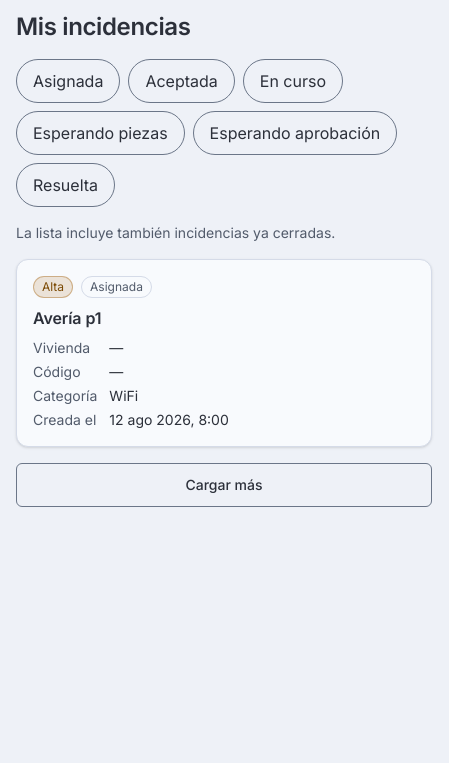
Test case: TechIncidentsView (R1) › retries only the failed page and restores `load more` (R1.6)
Expected: the text "Avería p1" is shown, [33,308,102,328]
Click the button "Cargar más" at (224, 485), box [16,463,432,507]
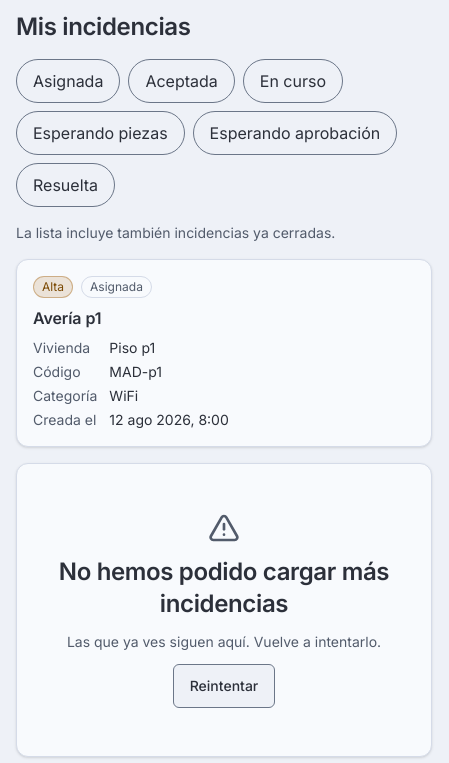
Expected: the heading "No hemos podido cargar más incidencias" is shown, [41,556,407,620]
Click the button "Reintentar" at (224, 686), box [173,664,275,708]
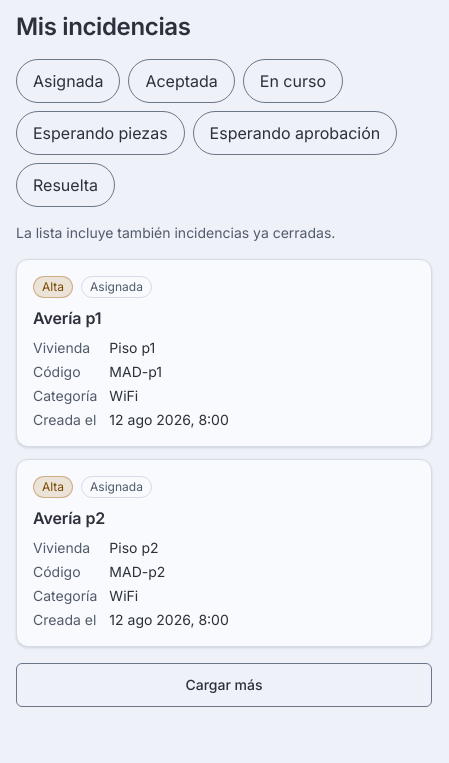
Expected: the text "Avería p2" is shown, [33,508,105,528]
Expected: the heading "No hemos podido cargar más incidencias" is gone
